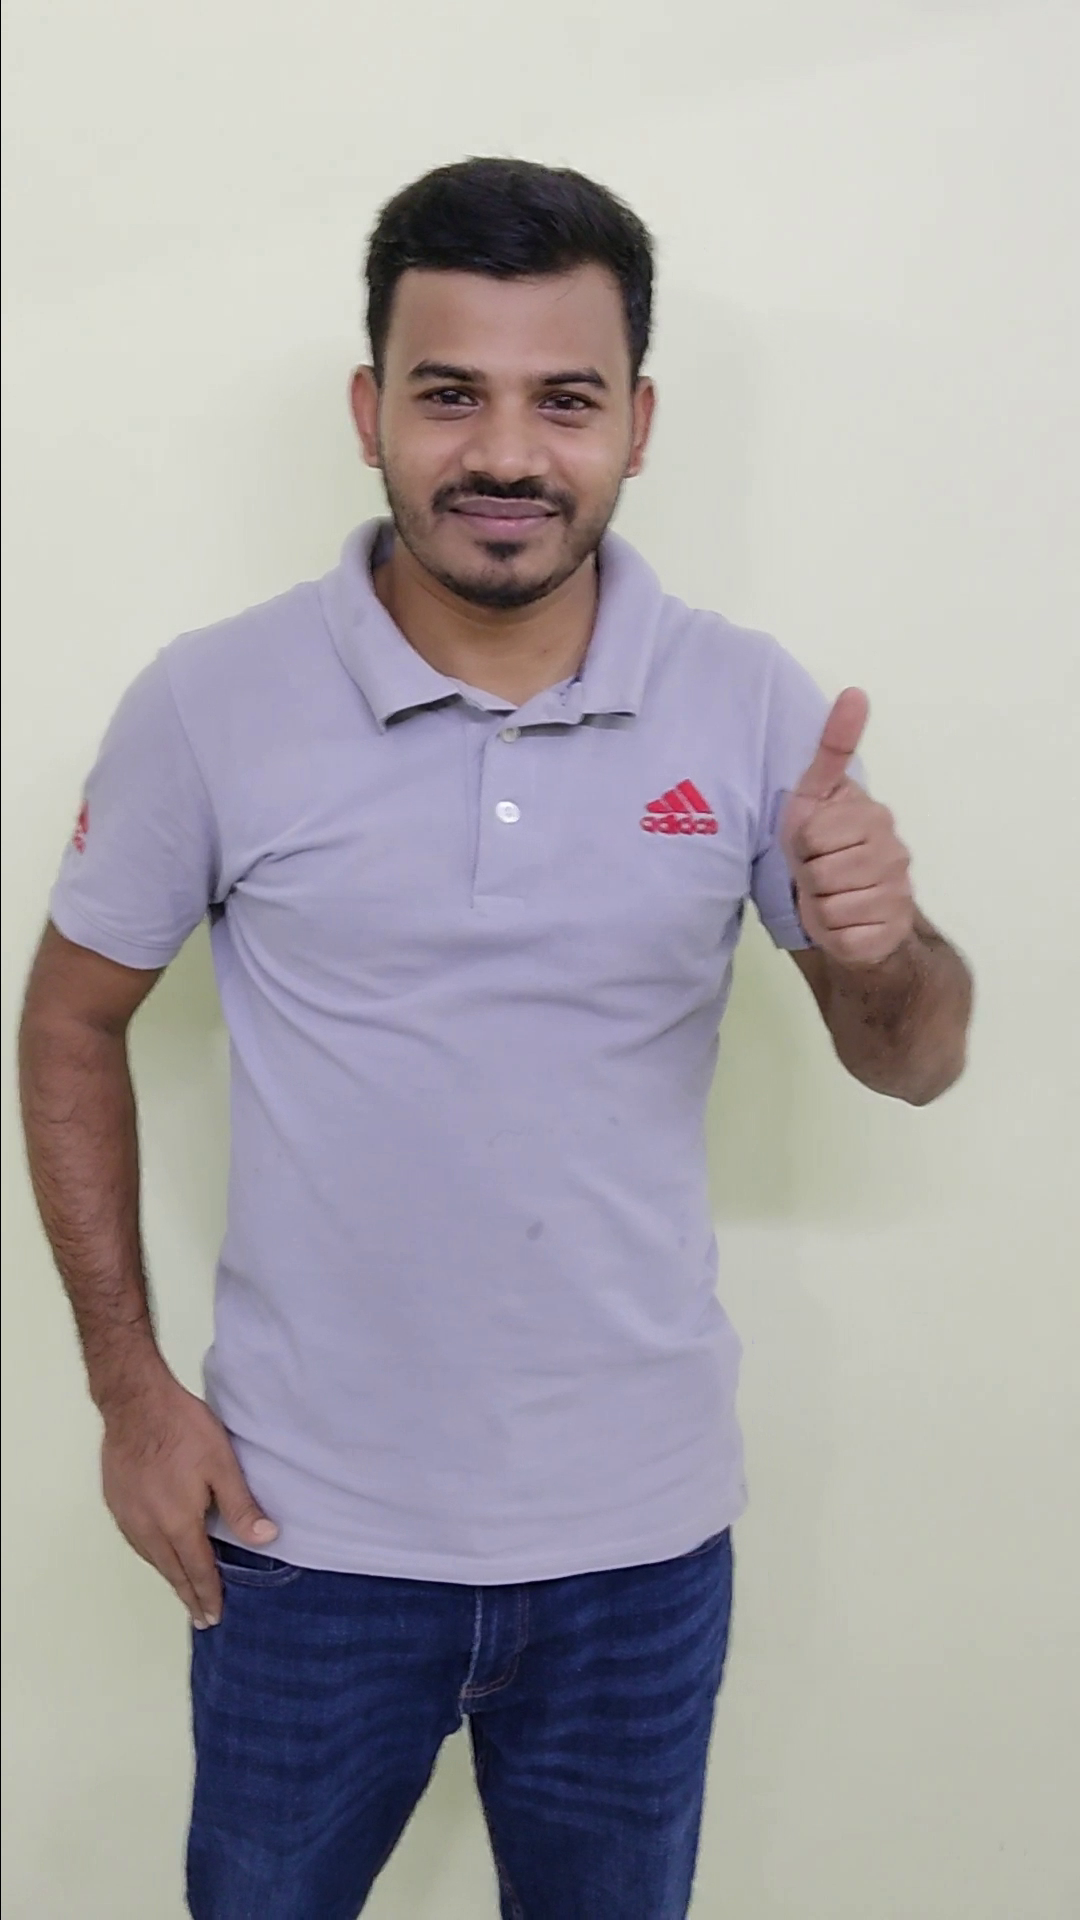Like: (728, 651, 953, 977)
None: (74, 1349, 291, 1640)
